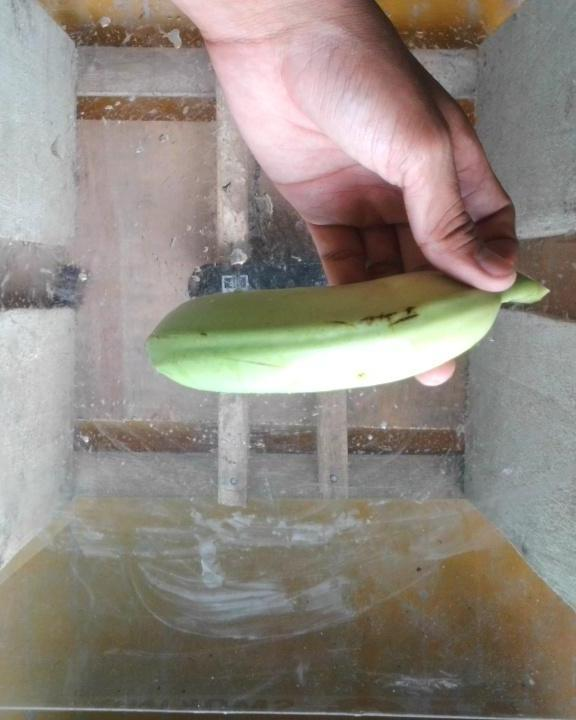CLASS B: (143, 262, 550, 406)
Class A: (325, 291, 430, 347)
